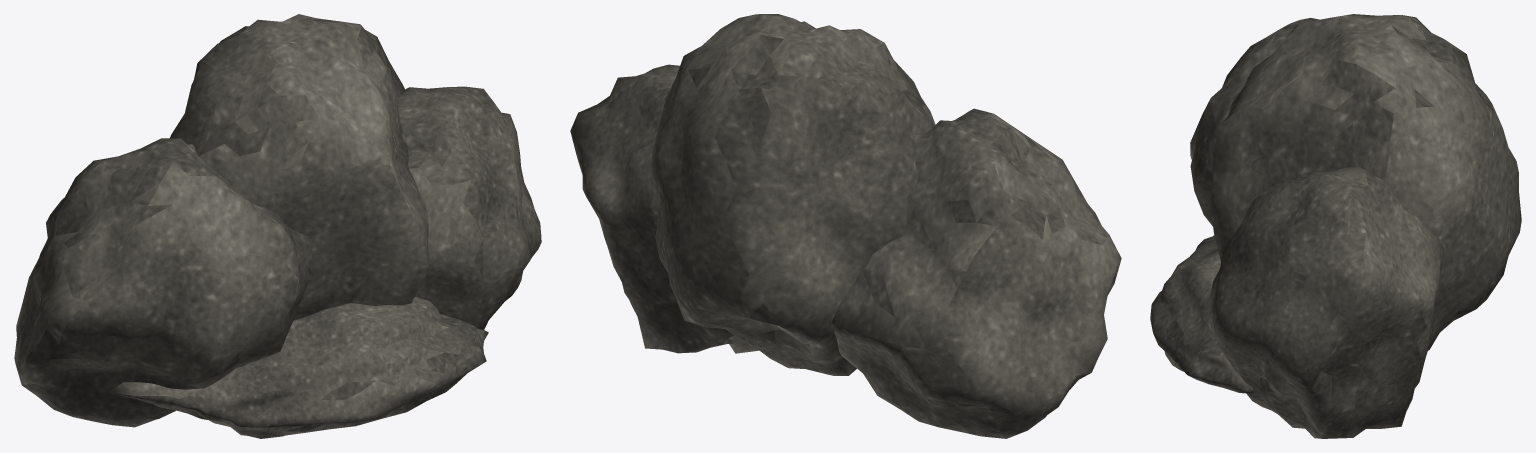
Rendered from RockLedge.glb.
The picture shows the model from 3 angles, left to right: view 1: azimuth 30°, elevation 25°; view 2: azimuth 150°, elevation 25°; view 3: azimuth 270°, elevation 25°; orthographic projection. The views are drawn at different scales.
Visible parts, largest first — view 1: RockLedgeVisual; view 2: RockLedgeVisual; view 3: RockLedgeVisual.
Part boxes in pixels (left/top/right/bottom): RockLedgeVisual: left=14, top=14, right=541, bottom=438; RockLedgeVisual: left=570, top=14, right=1121, bottom=438; RockLedgeVisual: left=1150, top=14, right=1521, bottom=438.
Size of what is drawn, in the model's own units: 5.53 by 3.5 by 3.46.
Materials: 1 (1 with a texture image).
